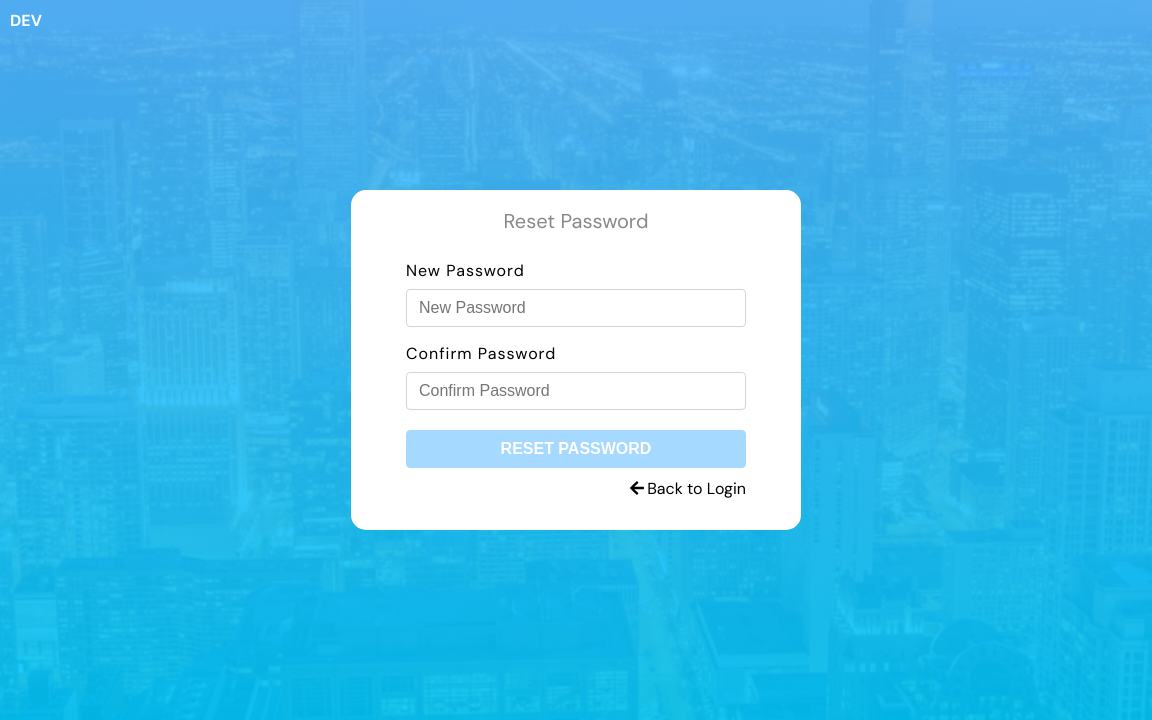
it: Reset Password Page › Button should be enabled with inputs
Expected: the button is disabled, [406,430,746,468]
Type "yordev" into the password field labelled "New Password". click: (576, 308)
box: [406,289,746,327]
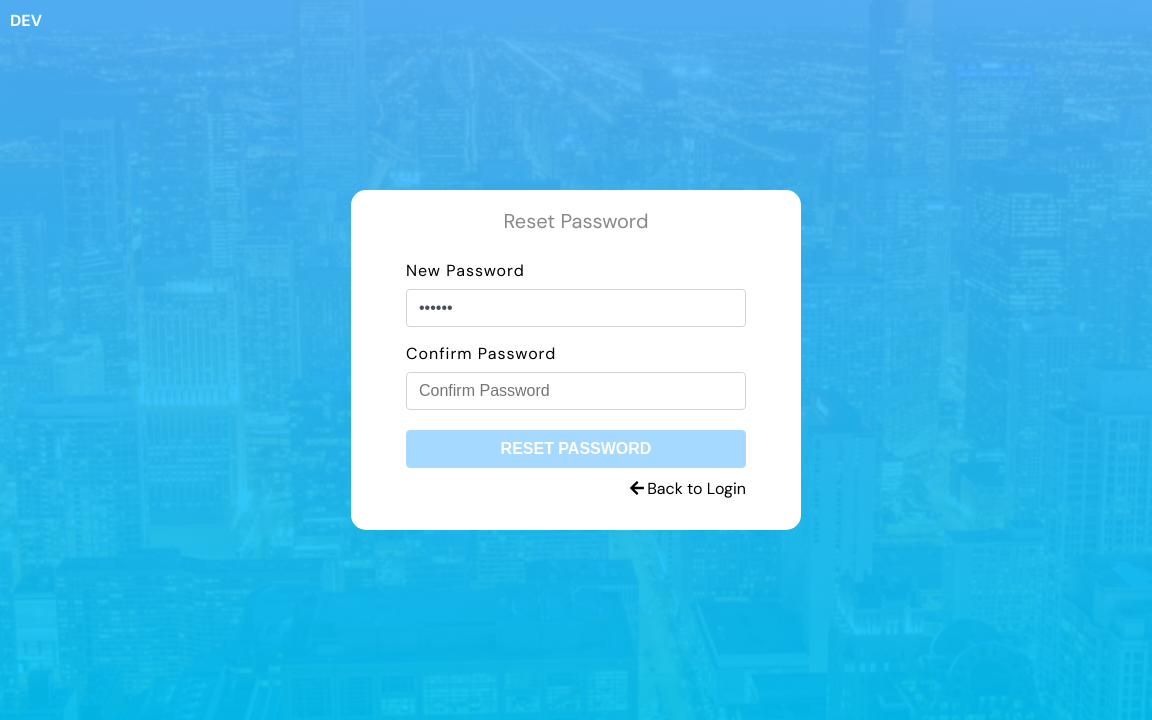
Type "yordev" into the password field labelled "Confirm Password". click: (576, 391)
box: [406,372,746,410]
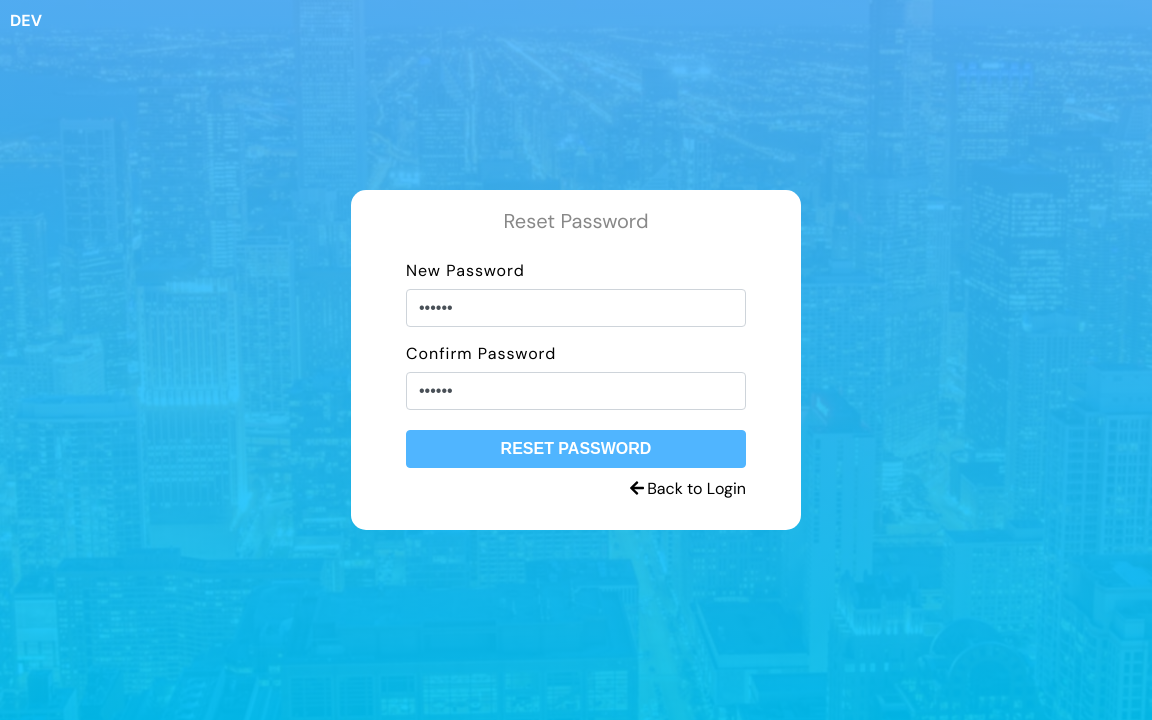
Expected: the button is enabled, [406,430,746,468]
